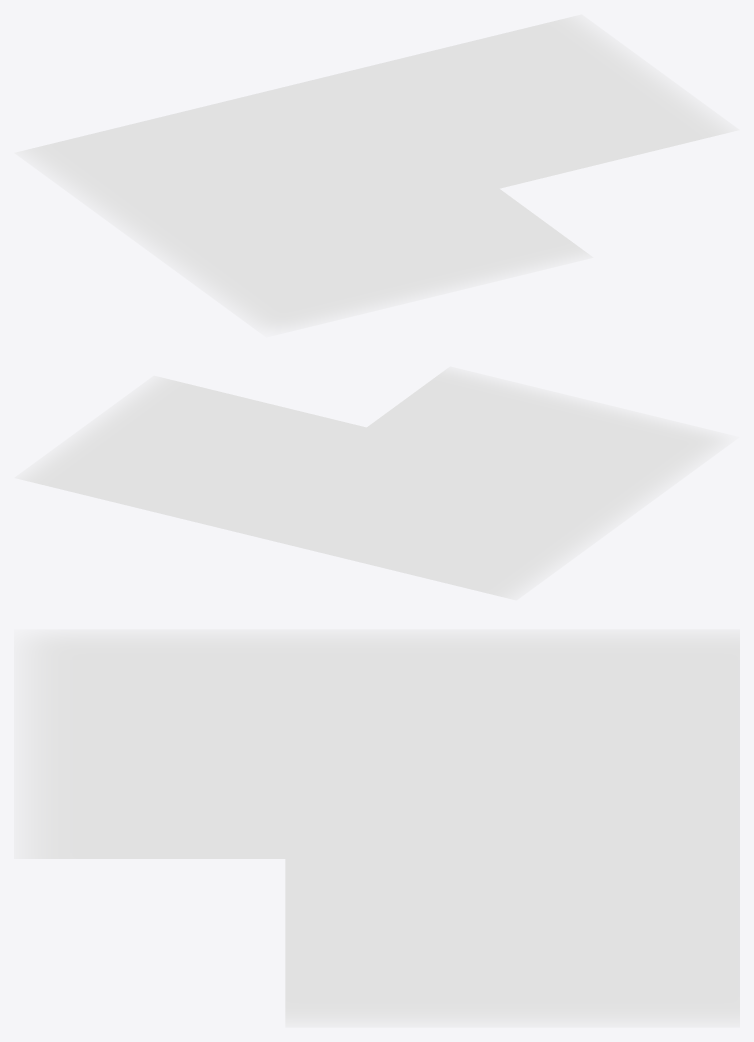
3 renders of one model, top to bottom at view 1: azimuth 30°, elevation 25°; view 2: azimuth 150°, elevation 25°; view 3: azimuth 270°, elevation 25°, orthographic. The views are drawn at different scales.
Visible parts, largest first — view 1: 投影_01; view 2: 投影_01; view 3: 投影_01.
Boxes of the visible parts, box(x1,y1,x2,y2) form: 投影_01: box(15, 14, 738, 336); 投影_01: box(15, 366, 737, 600); 投影_01: box(14, 629, 739, 1027).
Size of the model in its own units: 6254 by 0.00162 by 4814.
1 material, 1 textured.
